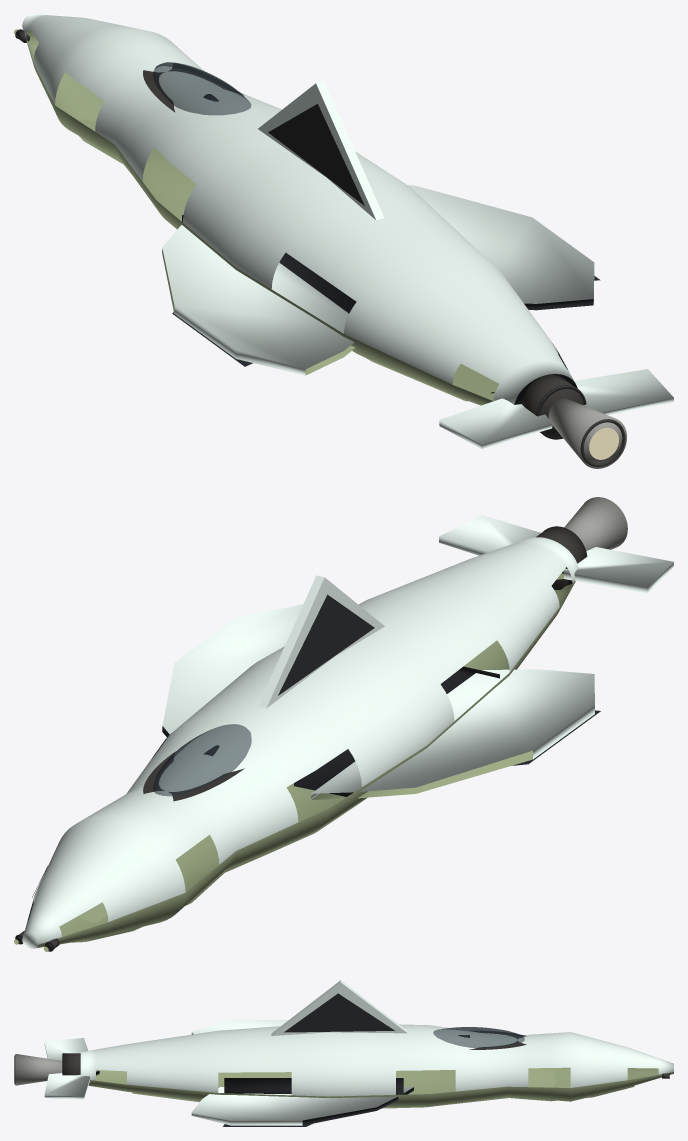
Rendered from Ship_Orca_29300.glb.
3 renders of one model, top to bottom at view 1: azimuth 30°, elevation 25°; view 2: azimuth 150°, elevation 25°; view 3: azimuth 270°, elevation 25°, orthographic. The views are drawn at different scales.
Parts seen in each view (by area): view 1: Fuselage_OrcaCountershadedHull, PectoralFin_Left_AerofoilWingFin, PectoralFin_Right_AerofoilWingFin, CanopyGlass_LowInsetDome, TailFluke_Left_SweptAftStabilizer, DorsalFin_MainSweptKeel, DorsalFinTrimPatch_LeftFace, TailFluke_Right_SweptAftStabilizer, EngineBell_MainLargeBurnishedNozzle, EngineMount_AftIntegratedRoundSocket, PectoralFinRoot_Left_BlendedShoulder, CanopyFrame_LowInsetOvalRim (+1 smaller); view 2: Fuselage_OrcaCountershadedHull, PectoralFin_Left_AerofoilWingFin, PectoralFin_Right_AerofoilWingFin, CanopyGlass_LowInsetDome, DorsalFinTrimPatch_LeftFace, DorsalFin_MainSweptKeel, TailFluke_Left_SweptAftStabilizer, EngineBell_MainLargeBurnishedNozzle, TailFluke_Right_SweptAftStabilizer, PectoralFinRoot_Left_BlendedShoulder, PaintBelly_LongCountershadeKeelPatch, CanopyFrame_LowInsetOvalRim (+1 smaller); view 3: Fuselage_OrcaCountershadedHull, PectoralFin_Right_AerofoilWingFin, DorsalFinTrimPatch_RightFace, DorsalFin_MainSweptKeel, CanopyGlass_LowInsetDome, PectoralFinRoot_Right_BlendedShoulder, EngineBell_MainLargeBurnishedNozzle, TailFluke_Right_SweptAftStabilizer, PaintBelly_LongCountershadeKeelPatch, PectoralFin_Left_AerofoilWingFin, TailFluke_Left_SweptAftStabilizer, EngineMount_AftIntegratedRoundSocket (+1 smaller).
Part boxes in pixels (x1,y1,x2,y2): Fuselage_OrcaCountershadedHull: (22,14,577,405); PectoralFin_Left_AerofoilWingFin: (162,225,355,375); PectoralFin_Right_AerofoilWingFin: (407,185,594,310); CanopyGlass_LowInsetDome: (153,62,251,115); TailFluke_Left_SweptAftStabilizer: (439,398,552,448); DorsalFin_MainSweptKeel: (258,81,384,220); DorsalFinTrimPatch_LeftFace: (268,104,364,205); TailFluke_Right_SweptAftStabilizer: (574,369,673,415); EngineBell_MainLargeBurnishedNozzle: (548,398,626,468); EngineMount_AftIntegratedRoundSocket: (521,374,586,439); PectoralFinRoot_Left_BlendedShoulder: (182,215,356,313); CanopyFrame_LowInsetOvalRim: (143,63,243,112); Fuselage_OrcaCountershadedHull: (22,537,578,948); PectoralFin_Left_AerofoilWingFin: (311,669,594,799); PectoralFin_Right_AerofoilWingFin: (162,604,303,737); CanopyGlass_LowInsetDome: (153,724,251,796); DorsalFinTrimPatch_LeftFace: (278,594,374,695); DorsalFin_MainSweptKeel: (258,575,384,708); TailFluke_Left_SweptAftStabilizer: (556,547,673,593); EngineBell_MainLargeBurnishedNozzle: (564,497,627,550); TailFluke_Right_SweptAftStabilizer: (439,515,540,555); PectoralFinRoot_Left_BlendedShoulder: (294,666,499,796); PaintBelly_LongCountershadeKeelPatch: (72,797,367,942); CanopyFrame_LowInsetOvalRim: (143,751,244,801); Fuselage_OrcaCountershadedHull: (80,1024,673,1107); PectoralFin_Right_AerofoilWingFin: (191,1087,413,1125); DorsalFinTrimPatch_RightFace: (284,993,394,1032); DorsalFin_MainSweptKeel: (271,980,407,1035); CanopyGlass_LowInsetDome: (433,1027,524,1048); PectoralFinRoot_Right_BlendedShoulder: (224,1078,403,1094); EngineBell_MainLargeBurnishedNozzle: (15,1054,62,1085); TailFluke_Right_SweptAftStabilizer: (44,1070,99,1099); PaintBelly_LongCountershadeKeelPatch: (132,1069,634,1108); PectoralFin_Left_AerofoilWingFin: (191,1019,288,1034); TailFluke_Left_SweptAftStabilizer: (44,1038,88,1060); EngineMount_AftIntegratedRoundSocket: (62,1053,80,1075).
Size of the model in its own units: 3.19 by 1.73 by 8.84.
